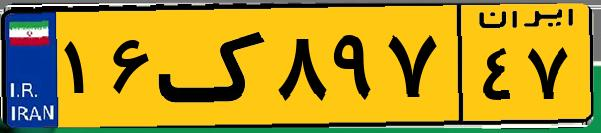1: (57, 26, 110, 100)
4: (475, 38, 525, 113)
6: (110, 28, 158, 98)
7: (385, 28, 445, 110), (525, 38, 570, 115)
8: (270, 28, 330, 110)
9: (330, 28, 385, 110)
ک: (158, 12, 270, 120)
